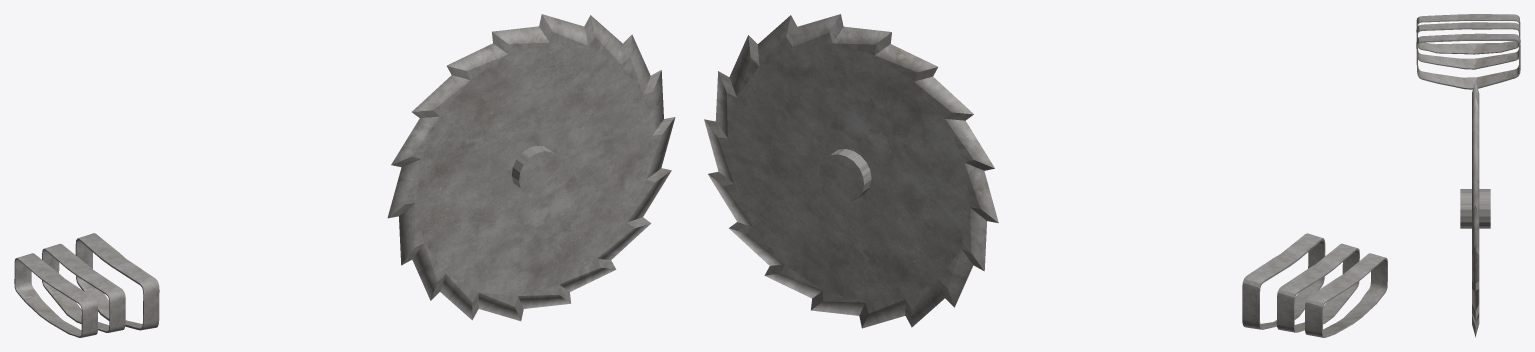
The model's file is updateripper.FBX.
3 renders of one model, left to right at view 1: azimuth 30°, elevation 25°; view 2: azimuth 150°, elevation 25°; view 3: azimuth 270°, elevation 25°, orthographic. The views are drawn at different scales.
Visible parts, largest first — view 1: SawBlade, Metal009, Metal010, Metal05; view 2: SawBlade, Metal009, Metal010, Metal05; view 3: SawBlade, Metal010, Metal05, Metal009.
Boxes of the visible parts, <box> form: SawBlade: <box>387,14,675,321</box>; Metal009: <box>14,253,97,337</box>; Metal010: <box>75,233,159,330</box>; Metal05: <box>42,243,125,332</box>; SawBlade: <box>704,14,998,328</box>; Metal009: <box>1305,253,1387,337</box>; Metal010: <box>1242,233,1325,329</box>; Metal05: <box>1276,243,1359,332</box>; SawBlade: <box>1460,80,1490,337</box>; Metal010: <box>1416,33,1520,89</box>; Metal05: <box>1416,22,1520,69</box>; Metal009: <box>1416,14,1520,54</box>.
Bounding box in the file's own units: 147 × 66.9 × 26.7.
